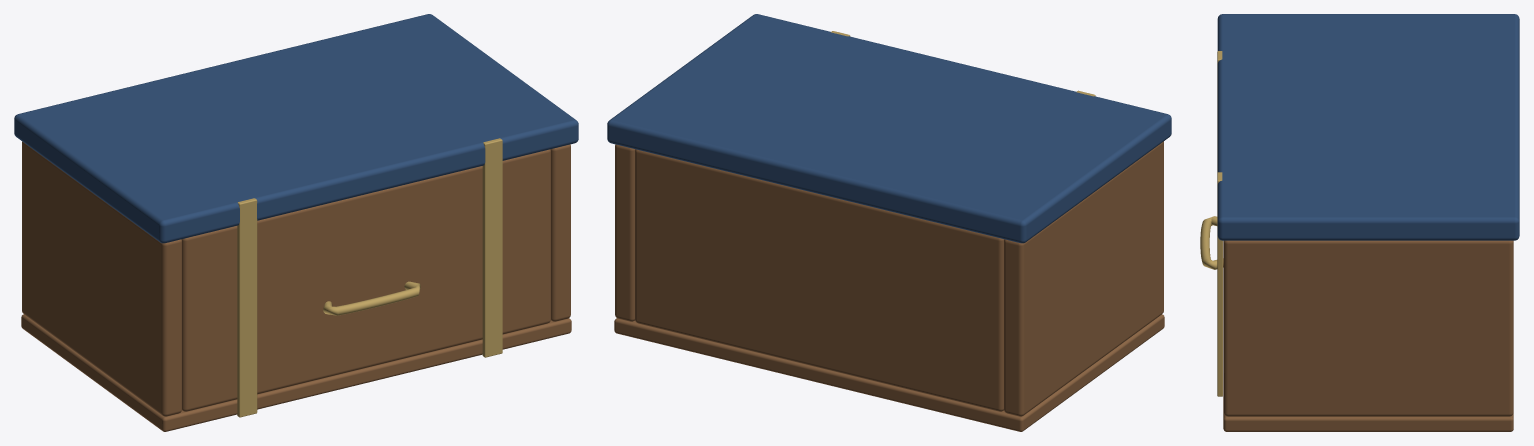
File: fantasy-cartographers-map-printing-guild-expedition-in-7bb7dcb0__32241.glb
3 views of the same model, side by side, from view 1: azimuth 30°, elevation 25°; view 2: azimuth 150°, elevation 25°; view 3: azimuth 270°, elevation 25° (orthographic).
Parts seen in each view (by area): view 1: expedition-instrument-chest; view 2: expedition-instrument-chest; view 3: expedition-instrument-chest.
Boxes of the visible parts, x1,y1,x2,y2 form: expedition-instrument-chest: [14, 14, 578, 431]; expedition-instrument-chest: [607, 14, 1171, 431]; expedition-instrument-chest: [1200, 14, 1519, 431].
Size of the model in its own units: 1.04 by 0.51 by 0.6819.
